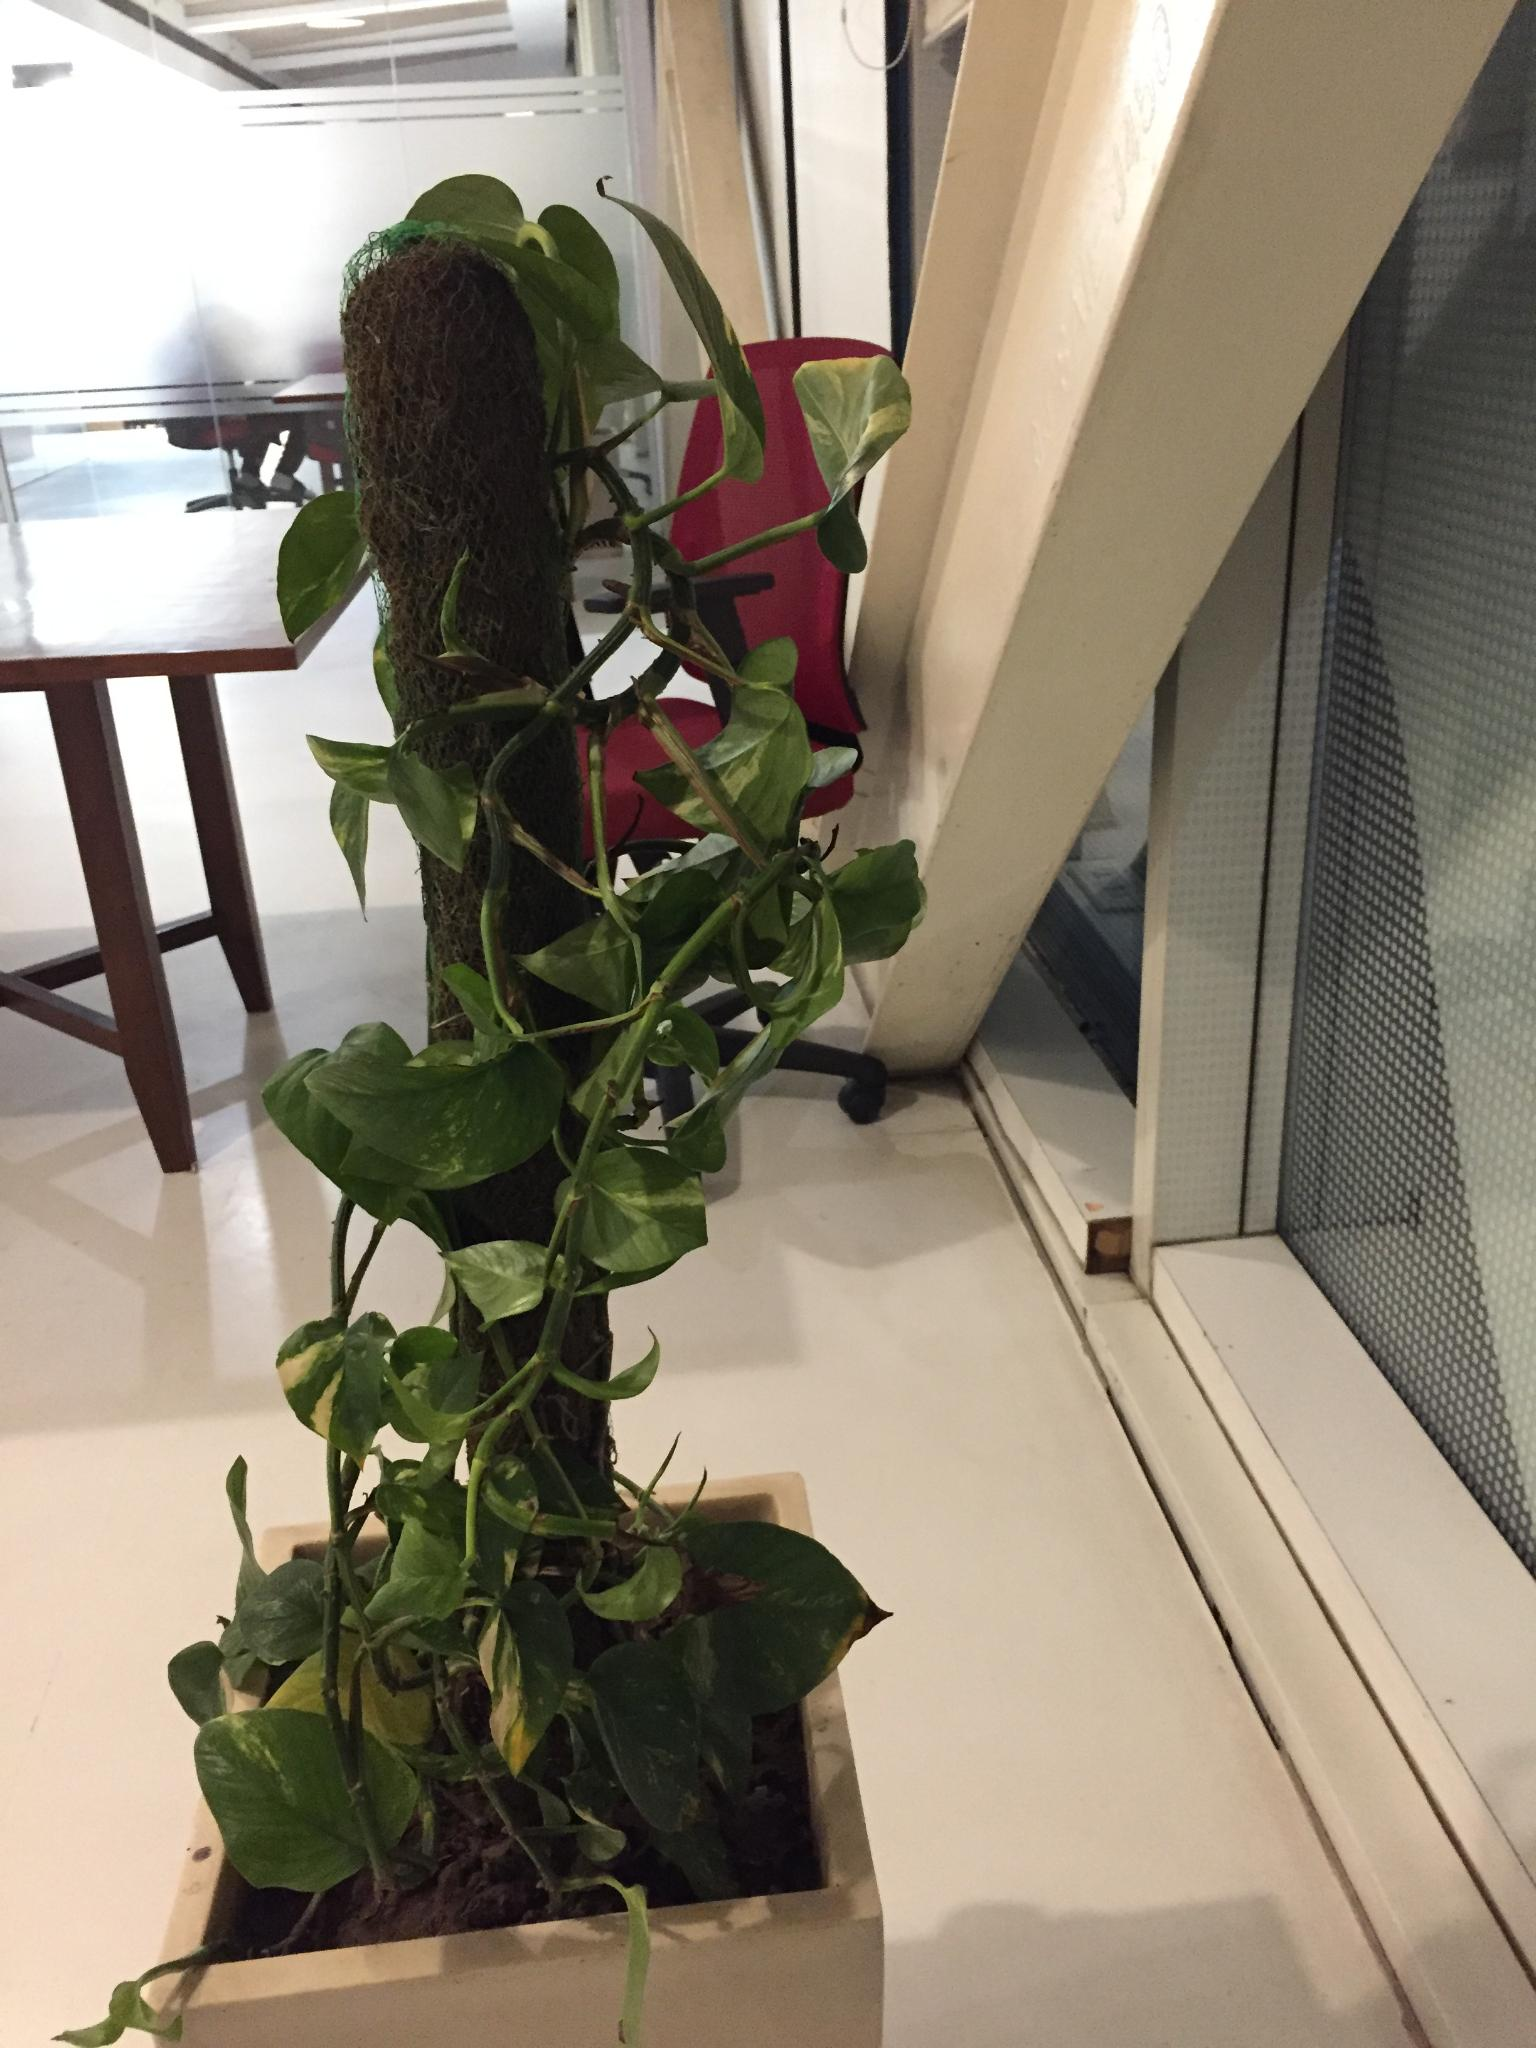chair: (570, 334, 908, 1180)
